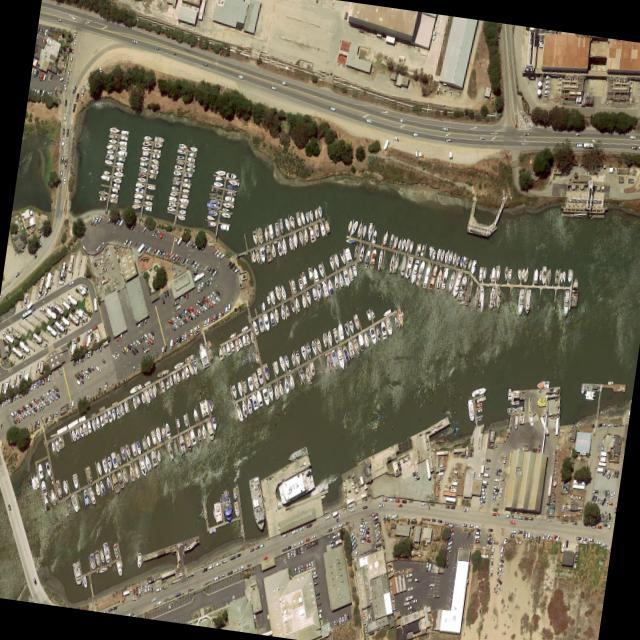ship: (278, 466, 316, 505), (248, 473, 267, 532), (196, 339, 210, 369), (287, 445, 308, 463), (221, 490, 233, 521), (464, 275, 475, 306), (570, 275, 581, 306), (452, 270, 464, 297), (428, 262, 439, 291), (457, 274, 468, 301), (422, 261, 432, 289), (72, 560, 83, 585), (410, 258, 420, 283), (115, 468, 126, 490), (199, 397, 210, 419), (213, 500, 223, 524), (336, 345, 346, 369), (517, 287, 525, 315), (563, 289, 571, 316), (471, 385, 487, 398), (178, 433, 187, 455), (111, 471, 120, 493), (206, 419, 215, 441), (55, 477, 64, 499), (330, 348, 339, 370), (184, 431, 193, 452), (88, 484, 97, 505), (417, 258, 426, 279), (405, 256, 414, 277), (441, 266, 449, 289), (448, 269, 456, 292), (467, 398, 475, 421), (103, 540, 111, 563), (388, 250, 396, 273), (138, 456, 147, 476), (70, 493, 79, 513), (364, 244, 372, 266), (30, 472, 39, 491), (267, 383, 276, 402), (396, 307, 405, 326), (352, 336, 361, 355), (349, 219, 359, 236), (235, 401, 243, 422), (356, 217, 364, 238), (376, 248, 384, 269), (525, 288, 532, 312), (400, 254, 408, 275), (380, 318, 388, 339), (344, 245, 353, 263), (357, 332, 366, 350), (347, 339, 356, 357), (474, 285, 481, 308), (489, 285, 496, 308), (156, 367, 170, 378), (495, 285, 502, 307), (144, 452, 152, 471), (110, 450, 118, 469), (262, 387, 270, 406), (256, 366, 264, 385), (343, 267, 351, 286), (337, 321, 345, 340), (353, 312, 361, 331), (369, 326, 377, 345), (342, 343, 350, 362), (263, 312, 271, 331), (262, 361, 270, 380), (278, 354, 286, 373), (305, 340, 313, 359), (436, 267, 443, 288), (129, 382, 141, 394), (585, 388, 597, 400), (155, 425, 163, 443), (150, 449, 158, 467), (133, 461, 141, 479), (128, 462, 136, 480), (189, 427, 197, 445), (252, 371, 260, 389), (82, 487, 90, 505), (370, 247, 378, 265), (385, 317, 393, 335), (325, 353, 333, 371), (288, 372, 296, 390), (166, 441, 174, 458), (164, 421, 172, 438), (192, 406, 200, 423), (256, 389, 264, 406), (321, 280, 329, 297), (274, 285, 282, 302), (269, 289, 277, 306), (310, 339, 318, 356), (252, 319, 260, 336), (300, 345, 308, 362), (206, 201, 221, 210), (480, 285, 485, 312), (298, 228, 305, 247), (246, 395, 253, 414), (241, 399, 248, 418), (86, 464, 93, 483), (367, 223, 374, 242), (393, 253, 400, 272), (283, 374, 290, 393), (327, 329, 334, 348), (470, 258, 478, 274), (143, 388, 151, 404), (150, 429, 158, 445), (247, 375, 255, 391), (312, 266, 320, 282), (304, 365, 312, 381), (281, 236, 288, 254), (265, 243, 272, 261), (257, 226, 264, 244), (233, 499, 240, 517), (359, 243, 366, 261), (67, 418, 78, 429), (184, 353, 196, 363), (319, 219, 326, 236), (292, 231, 299, 248), (276, 239, 283, 256), (122, 466, 129, 483), (96, 460, 103, 477), (251, 392, 258, 409), (237, 380, 244, 397), (72, 472, 79, 489), (40, 479, 47, 496), (45, 460, 52, 477), (37, 462, 44, 479), (116, 559, 123, 576), (316, 282, 323, 299), (273, 383, 280, 400), (375, 324, 382, 341), (269, 309, 276, 326), (301, 270, 308, 287), (294, 295, 301, 312), (258, 315, 265, 332), (541, 265, 547, 284), (91, 417, 98, 433), (125, 443, 132, 459), (120, 446, 127, 462), (99, 478, 106, 494), (94, 480, 101, 496), (62, 479, 69, 495), (388, 232, 395, 248), (327, 277, 334, 293), (318, 262, 325, 278), (333, 328, 340, 344), (290, 278, 297, 294), (280, 283, 287, 299), (56, 425, 68, 434), (537, 380, 549, 389), (324, 218, 331, 233), (82, 421, 89, 436), (119, 402, 126, 417), (160, 426, 167, 441), (131, 442, 138, 457), (106, 454, 113, 469), (311, 285, 318, 300), (349, 319, 356, 334), (363, 331, 370, 346), (309, 361, 316, 376), (290, 351, 297, 366), (187, 362, 195, 375), (296, 210, 302, 227), (260, 245, 266, 262), (274, 220, 280, 237), (279, 217, 285, 234), (90, 552, 96, 569), (95, 549, 101, 566), (322, 331, 328, 348), (173, 360, 184, 369), (435, 247, 442, 261), (86, 419, 93, 433), (155, 448, 162, 462), (316, 338, 323, 352), (295, 351, 302, 365), (224, 188, 236, 196), (309, 226, 315, 242), (303, 226, 309, 242), (284, 216, 290, 232), (271, 241, 277, 257), (268, 223, 274, 239), (136, 439, 142, 455), (102, 457, 108, 473), (201, 423, 207, 439), (113, 542, 119, 558), (383, 229, 389, 245), (338, 271, 344, 287), (334, 252, 340, 268), (329, 255, 335, 271), (308, 265, 314, 281), (300, 368, 306, 384), (306, 289, 312, 305), (274, 307, 280, 323), (274, 359, 280, 375), (222, 201, 235, 208), (57, 435, 64, 448), (448, 249, 454, 264), (290, 214, 296, 229), (255, 249, 261, 264), (263, 226, 269, 241), (75, 425, 81, 440), (152, 383, 158, 398), (476, 394, 486, 403), (183, 413, 189, 428), (232, 384, 238, 399), (242, 379, 248, 394), (218, 345, 224, 360), (567, 504, 582, 510), (50, 487, 56, 502), (98, 565, 108, 574), (99, 547, 105, 562), (372, 228, 378, 243), (348, 265, 354, 280), (352, 262, 358, 277), (333, 273, 339, 288), (344, 322, 350, 337), (382, 308, 392, 317), (301, 292, 307, 307), (280, 305, 286, 320), (227, 177, 238, 185), (215, 168, 226, 176), (117, 148, 128, 156), (496, 264, 501, 281), (547, 268, 552, 285), (226, 171, 238, 178), (309, 208, 315, 222), (451, 251, 457, 265), (314, 223, 320, 237), (71, 427, 77, 441), (79, 424, 85, 438), (99, 413, 105, 427), (107, 408, 113, 422), (123, 400, 129, 414), (132, 395, 138, 409), (254, 351, 260, 365), (146, 434, 152, 448), (106, 475, 112, 489), (196, 427, 202, 441), (249, 329, 255, 343), (234, 337, 240, 351), (212, 415, 218, 429), (55, 437, 61, 451), (44, 496, 50, 510), (362, 224, 368, 238), (353, 243, 359, 257), (340, 251, 346, 265), (278, 381, 284, 395), (290, 299, 296, 313), (284, 354, 290, 368), (253, 229, 258, 245), (504, 265, 509, 281), (534, 267, 539, 283), (209, 191, 222, 197), (440, 249, 446, 262), (455, 254, 461, 267), (459, 255, 465, 268), (103, 410, 109, 423), (111, 407, 117, 420), (115, 405, 121, 418), (160, 379, 166, 392), (184, 365, 190, 378), (142, 437, 148, 450), (245, 331, 251, 344), (225, 342, 231, 355), (393, 235, 399, 248), (420, 243, 426, 256), (416, 242, 422, 255), (404, 238, 410, 251), (284, 303, 290, 316), (166, 205, 177, 212), (187, 151, 198, 158), (211, 186, 222, 193), (154, 135, 165, 142), (179, 196, 190, 203), (208, 209, 219, 216), (224, 194, 235, 201), (98, 189, 109, 196), (109, 126, 120, 133), (113, 170, 124, 177), (545, 387, 556, 394), (318, 204, 323, 219), (301, 210, 306, 225), (288, 234, 293, 249), (478, 266, 483, 281), (491, 266, 496, 281), (137, 552, 142, 567), (524, 266, 529, 281), (554, 268, 559, 283), (443, 251, 449, 263), (220, 222, 229, 230), (240, 324, 249, 332), (228, 331, 237, 339), (529, 415, 535, 427), (580, 382, 586, 394), (393, 315, 399, 327), (178, 142, 188, 149), (186, 161, 196, 168), (226, 183, 236, 190), (132, 203, 142, 210), (147, 183, 157, 190), (149, 167, 159, 174), (138, 165, 148, 172), (305, 210, 310, 224), (221, 211, 231, 218), (96, 415, 101, 429), (105, 153, 115, 160), (193, 360, 198, 374), (514, 415, 519, 429), (401, 237, 406, 251), (409, 239, 414, 253), (213, 181, 224, 187), (141, 145, 152, 151), (210, 198, 221, 204), (105, 143, 116, 149), (241, 334, 247, 345), (366, 309, 372, 320), (251, 249, 256, 262), (141, 391, 146, 404), (148, 385, 153, 398), (117, 452, 122, 465), (232, 486, 237, 499), (347, 219, 352, 232), (298, 277, 303, 290), (78, 414, 86, 422), (170, 190, 179, 197), (151, 157, 160, 164), (207, 214, 216, 221), (109, 132, 118, 139), (113, 176, 122, 183), (168, 201, 178, 207), (168, 195, 178, 201), (174, 163, 184, 169), (185, 166, 195, 172), (134, 186, 144, 192), (135, 182, 145, 188), (143, 134, 153, 140), (142, 140, 152, 146), (139, 155, 149, 161), (139, 160, 149, 166), (314, 207, 319, 219), (428, 245, 433, 257), (467, 258, 472, 270), (100, 174, 110, 180), (104, 158, 114, 164), (181, 367, 186, 379), (136, 394, 142, 404), (169, 374, 174, 386), (172, 372, 177, 384), (176, 416, 181, 428), (370, 308, 376, 318), (209, 400, 214, 412), (507, 387, 512, 399), (83, 575, 88, 587), (397, 238, 402, 250), (177, 213, 185, 220), (144, 379, 152, 386), (568, 268, 572, 282), (432, 249, 437, 260), (238, 336, 243, 347), (230, 340, 235, 351), (222, 344, 227, 355), (50, 440, 55, 451), (521, 268, 526, 279), (261, 300, 266, 311), (171, 185, 180, 191), (187, 155, 196, 161), (184, 171, 193, 177), (181, 187, 190, 193), (150, 163, 159, 169), (154, 142, 163, 148), (138, 171, 147, 177), (137, 176, 146, 182), (208, 221, 217, 227), (144, 199, 153, 205), (109, 197, 118, 203), (405, 594, 414, 600), (108, 137, 117, 143), (121, 128, 130, 134), (115, 160, 124, 166), (515, 405, 524, 411), (346, 237, 355, 243), (483, 266, 487, 279), (209, 527, 216, 534), (178, 148, 186, 154), (190, 145, 198, 151), (145, 194, 153, 200), (149, 173, 157, 179), (153, 147, 161, 153), (178, 208, 186, 214), (580, 538, 588, 544), (119, 139, 127, 145), (182, 182, 191, 187), (173, 175, 182, 180), (173, 170, 182, 175), (180, 193, 189, 198), (134, 193, 143, 198), (152, 153, 161, 158), (118, 145, 127, 150), (507, 407, 516, 412), (176, 371, 180, 382), (509, 268, 513, 279), (517, 268, 521, 279), (539, 269, 543, 280), (403, 600, 410, 606), (476, 401, 483, 407), (406, 571, 413, 577), (172, 180, 180, 185), (176, 160, 184, 165), (177, 154, 185, 159), (215, 175, 223, 180), (183, 177, 191, 182), (134, 198, 142, 203), (179, 203, 187, 208), (222, 206, 230, 211), (144, 205, 152, 210), (99, 196, 107, 201), (103, 169, 111, 174), (107, 148, 115, 153), (117, 156, 125, 161), (115, 166, 123, 171), (110, 192, 118, 197), (510, 400, 520, 404), (560, 271, 563, 283), (563, 270, 566, 282), (267, 295, 271, 304), (142, 150, 149, 155), (113, 182, 120, 187), (111, 187, 118, 192), (607, 379, 614, 384), (407, 586, 414, 591), (120, 135, 128, 139), (166, 379, 169, 389), (477, 407, 483, 412), (478, 416, 483, 421)
small-vehicle: (118, 217, 125, 227), (111, 351, 118, 360), (123, 236, 130, 245), (77, 369, 84, 378), (35, 403, 42, 412), (174, 303, 181, 311), (167, 317, 174, 325), (197, 298, 204, 306), (143, 346, 151, 353), (74, 372, 81, 380), (53, 384, 60, 392), (29, 407, 36, 415), (40, 305, 47, 313), (496, 570, 503, 578), (212, 267, 218, 276), (38, 401, 44, 410), (96, 243, 102, 252), (152, 246, 158, 255), (94, 216, 99, 226), (436, 85, 441, 95), (182, 308, 189, 315), (47, 303, 54, 310), (497, 565, 504, 572), (203, 295, 209, 303), (215, 288, 221, 296), (210, 266, 216, 274), (127, 238, 133, 246), (173, 252, 179, 260), (148, 331, 154, 339), (191, 311, 197, 319), (95, 365, 101, 373), (10, 410, 16, 418), (158, 248, 164, 256), (92, 323, 98, 331), (493, 586, 499, 594), (602, 468, 608, 476), (604, 510, 609, 519), (90, 216, 95, 225), (171, 315, 177, 322), (186, 306, 192, 313), (189, 305, 195, 312), (211, 289, 217, 296), (234, 265, 240, 272), (169, 252, 175, 259), (216, 250, 222, 257), (143, 332, 149, 339), (215, 295, 221, 302), (121, 347, 127, 354), (123, 345, 129, 352), (132, 339, 138, 346), (76, 379, 82, 386), (89, 364, 95, 371), (45, 390, 51, 397), (15, 415, 21, 422), (17, 413, 23, 420), (26, 408, 32, 415), (40, 399, 46, 406), (44, 398, 50, 405), (407, 604, 414, 610), (352, 542, 358, 549), (496, 583, 502, 590), (497, 577, 503, 584), (605, 469, 611, 476), (394, 135, 400, 142), (556, 533, 561, 541), (601, 497, 606, 505), (546, 532, 551, 540), (175, 313, 180, 321), (219, 252, 224, 260), (170, 338, 174, 348), (80, 376, 85, 384), (40, 71, 44, 81), (44, 27, 49, 35), (50, 27, 55, 35), (21, 353, 26, 361), (499, 487, 503, 497), (350, 530, 355, 538), (500, 544, 505, 552), (466, 530, 471, 538), (523, 113, 528, 121), (72, 85, 77, 93), (72, 102, 76, 112), (75, 92, 79, 102), (570, 494, 576, 500), (200, 281, 204, 290), (197, 283, 201, 292), (195, 301, 201, 307), (209, 292, 215, 298), (195, 262, 201, 268), (182, 317, 188, 323), (188, 314, 194, 320), (148, 337, 154, 343), (206, 316, 210, 325), (199, 306, 205, 312), (202, 304, 208, 310), (208, 301, 214, 307), (211, 298, 217, 304), (145, 339, 151, 345), (126, 343, 132, 349), (129, 342, 135, 348), (13, 409, 19, 415), (16, 408, 22, 414), (33, 397, 39, 403), (36, 395, 42, 401), (537, 443, 541, 452), (12, 418, 18, 424), (48, 411, 52, 420), (71, 399, 75, 408), (86, 328, 92, 334), (411, 597, 417, 603), (428, 562, 432, 571), (498, 561, 504, 567), (491, 546, 495, 555), (82, 82, 86, 91), (151, 596, 157, 602), (282, 532, 288, 538), (292, 528, 298, 534), (306, 522, 312, 528), (598, 497, 603, 504), (542, 532, 547, 539), (553, 533, 558, 540), (207, 294, 212, 301), (171, 324, 176, 331), (174, 322, 179, 329), (204, 263, 209, 270), (159, 231, 164, 238), (152, 229, 157, 236), (147, 245, 152, 252), (186, 239, 191, 246), (176, 254, 181, 261), (181, 256, 186, 263), (184, 257, 189, 264), (227, 259, 232, 266), (230, 261, 235, 268), (194, 309, 199, 316), (197, 308, 202, 315), (101, 356, 106, 363), (115, 350, 120, 357), (136, 338, 141, 345), (141, 334, 146, 341), (142, 225, 147, 232), (81, 369, 86, 376), (22, 404, 27, 411), (28, 400, 33, 407), (32, 405, 37, 412), (57, 330, 62, 337), (98, 215, 103, 222), (161, 250, 166, 257), (156, 248, 161, 255), (483, 472, 490, 477), (482, 479, 489, 484), (495, 471, 502, 476), (352, 538, 357, 545), (375, 530, 380, 537), (503, 536, 508, 543), (492, 539, 499, 544), (351, 534, 356, 541), (528, 120, 533, 127), (87, 81, 92, 88), (561, 504, 565, 512), (610, 490, 614, 498), (607, 489, 611, 497), (601, 511, 605, 519), (550, 532, 554, 540), (162, 296, 166, 304), (161, 345, 165, 353), (141, 317, 145, 325), (30, 383, 34, 391), (33, 381, 37, 389), (30, 424, 34, 432), (33, 68, 37, 76), (33, 88, 37, 96), (39, 26, 43, 34), (59, 366, 63, 374), (96, 344, 100, 352), (461, 467, 465, 475), (33, 577, 37, 585), (63, 83, 67, 91), (99, 65, 103, 73), (597, 524, 603, 529), (582, 535, 587, 541), (602, 541, 607, 547), (207, 266, 212, 272), (177, 312, 182, 318), (181, 311, 186, 317), (200, 297, 205, 303), (177, 321, 182, 327), (155, 230, 160, 236), (164, 252, 169, 258), (167, 252, 172, 258), (190, 259, 195, 265), (211, 247, 216, 253), (232, 264, 237, 270), (179, 319, 184, 325), (185, 315, 190, 321), (150, 329, 155, 335), (206, 303, 211, 309), (131, 349, 136, 355), (134, 346, 139, 352), (140, 343, 145, 349), (87, 366, 92, 372), (19, 406, 24, 412), (25, 403, 30, 409), (39, 394, 44, 400), (42, 392, 47, 398), (49, 395, 54, 401), (48, 388, 53, 394), (53, 393, 58, 399), (51, 386, 56, 392), (20, 412, 25, 418), (24, 410, 29, 416), (47, 397, 52, 403), (33, 253, 38, 259), (15, 271, 20, 277), (6, 327, 11, 333), (493, 487, 499, 492), (493, 490, 499, 495), (426, 561, 429, 571), (351, 506, 356, 512), (365, 532, 370, 538), (375, 542, 381, 547), (376, 535, 381, 541), (374, 522, 379, 528), (373, 514, 378, 520), (372, 511, 378, 516), (385, 513, 391, 518), (382, 496, 388, 501), (490, 567, 493, 577), (510, 519, 516, 524), (491, 555, 494, 565), (448, 522, 454, 527), (448, 539, 453, 545), (132, 38, 138, 43), (202, 61, 208, 66), (282, 81, 288, 86), (366, 118, 372, 123), (156, 586, 161, 592), (157, 599, 162, 605), (339, 522, 344, 528), (175, 591, 181, 596), (222, 558, 228, 563), (227, 570, 233, 575), (239, 564, 244, 570), (249, 547, 255, 552), (299, 525, 304, 531), (608, 512, 612, 519), (591, 493, 595, 500), (596, 496, 600, 503), (616, 470, 620, 477), (613, 470, 617, 477), (144, 244, 148, 251), (163, 290, 167, 297), (175, 235, 179, 242), (67, 68, 71, 75), (56, 391, 60, 398), (116, 334, 120, 341), (48, 26, 52, 33), (50, 73, 54, 80), (2, 330, 6, 337), (354, 549, 358, 556), (607, 472, 611, 479), (631, 145, 638, 149), (129, 588, 133, 595), (150, 585, 154, 592), (300, 564, 304, 571), (308, 561, 312, 568), (295, 547, 299, 554), (213, 312, 216, 321), (104, 380, 107, 389), (85, 312, 88, 321), (73, 356, 76, 365), (503, 454, 506, 463), (415, 148, 418, 157), (173, 301, 178, 306), (214, 249, 219, 254), (30, 399, 35, 404), (85, 374, 90, 379), (69, 280, 74, 285), (481, 487, 486, 492), (480, 498, 485, 503), (348, 503, 353, 508), (360, 527, 365, 532), (360, 523, 365, 528), (361, 535, 366, 540), (361, 539, 366, 544), (366, 537, 371, 542), (449, 528, 454, 533), (449, 531, 454, 536), (447, 545, 452, 550), (59, 76, 64, 81), (129, 611, 134, 616), (154, 45, 159, 50), (238, 74, 243, 79), (271, 85, 276, 90), (298, 539, 303, 544), (305, 536, 310, 541), (314, 580, 319, 585), (316, 594, 321, 599), (317, 601, 322, 606), (326, 514, 331, 519), (202, 567, 207, 572), (209, 564, 214, 569), (215, 575, 220, 580), (233, 567, 238, 572), (260, 542, 265, 547), (282, 546, 287, 551), (608, 521, 611, 529), (595, 540, 601, 544), (614, 505, 617, 513), (547, 517, 553, 521), (593, 495, 597, 501), (592, 489, 598, 493), (523, 529, 526, 537), (535, 534, 538, 542), (166, 288, 169, 296), (179, 334, 182, 342), (219, 309, 222, 317), (225, 305, 228, 313), (228, 302, 231, 310), (57, 17, 63, 21), (85, 368, 89, 374), (186, 290, 189, 298), (34, 420, 37, 428), (8, 395, 11, 403), (11, 394, 14, 402), (16, 390, 19, 398), (27, 425, 30, 433), (55, 409, 58, 417), (76, 355, 79, 363), (91, 347, 94, 355), (19, 369, 22, 377), (484, 465, 490, 469), (480, 494, 486, 498), (496, 468, 502, 472), (494, 478, 500, 482), (493, 484, 499, 488), (393, 513, 399, 517), (443, 521, 449, 525), (512, 514, 518, 518), (593, 428, 596, 436), (475, 531, 481, 535), (486, 540, 492, 544), (523, 131, 529, 135), (630, 135, 636, 139), (135, 587, 138, 595), (138, 587, 141, 595), (64, 112, 67, 120), (62, 137, 65, 145), (298, 564, 301, 572), (306, 561, 309, 569), (311, 560, 314, 568), (334, 619, 337, 627), (344, 612, 347, 620), (301, 545, 304, 553), (230, 555, 236, 559), (293, 548, 296, 556), (287, 544, 291, 550), (287, 551, 290, 559), (290, 549, 293, 557), (606, 498, 609, 505), (538, 535, 541, 542), (613, 490, 616, 497), (207, 278, 210, 285), (155, 350, 158, 357), (173, 338, 176, 345), (176, 336, 179, 343), (190, 328, 193, 335), (204, 319, 207, 326), (216, 312, 219, 319), (72, 46, 75, 53), (98, 386, 101, 393), (48, 373, 51, 380), (45, 374, 48, 381), (42, 376, 45, 383), (120, 330, 123, 337), (138, 320, 141, 327), (144, 316, 147, 323), (36, 379, 39, 386), (40, 377, 43, 384), (37, 419, 40, 426), (65, 327, 68, 334), (38, 71, 41, 78), (36, 69, 39, 76), (45, 416, 48, 423), (51, 412, 54, 419), (2, 400, 5, 407), (5, 397, 8, 404), (14, 392, 17, 399), (19, 390, 22, 397), (79, 354, 82, 361), (84, 352, 87, 359), (99, 344, 102, 351), (70, 54, 73, 61), (67, 75, 70, 82), (449, 89, 452, 96), (576, 143, 583, 146), (8, 503, 11, 510), (133, 587, 136, 594), (144, 585, 147, 592), (168, 602, 171, 609), (294, 566, 297, 573), (303, 563, 306, 570), (336, 618, 339, 625), (339, 616, 342, 623), (347, 612, 350, 619), (298, 547, 301, 554), (232, 593, 235, 600), (572, 520, 577, 524), (603, 522, 608, 526), (589, 537, 594, 541), (592, 524, 597, 528), (517, 529, 522, 533), (193, 261, 197, 266), (139, 337, 143, 342), (44, 342, 48, 347), (37, 88, 39, 98), (422, 501, 427, 505), (486, 458, 491, 462), (482, 484, 487, 488), (492, 495, 497, 499), (412, 515, 417, 519), (430, 501, 435, 505), (398, 503, 403, 507), (363, 520, 368, 524), (365, 525, 369, 530), (365, 530, 370, 534), (359, 531, 364, 535), (379, 503, 384, 507), (389, 497, 394, 501), (500, 557, 504, 562), (500, 553, 504, 558), (511, 529, 516, 533), (506, 513, 511, 517), (518, 515, 523, 519), (598, 422, 603, 426), (608, 422, 613, 426), (449, 536, 453, 541), (445, 504, 450, 508), (463, 507, 468, 511), (447, 549, 451, 554), (429, 586, 434, 590), (486, 543, 491, 547), (469, 523, 474, 527), (474, 524, 479, 528), (475, 534, 480, 538), (475, 539, 480, 543), (488, 527, 493, 531), (487, 533, 492, 537), (332, 534, 337, 538), (132, 596, 137, 600), (413, 132, 418, 136), (333, 525, 338, 529), (400, 118, 405, 122), (330, 106, 335, 110), (291, 543, 296, 547), (312, 534, 317, 538), (315, 591, 320, 595), (328, 527, 332, 532), (329, 539, 334, 543), (216, 561, 221, 565), (236, 553, 241, 557), (247, 562, 251, 567), (255, 545, 260, 549), (530, 534, 533, 540), (181, 334, 184, 340), (210, 316, 213, 322), (72, 338, 75, 344), (611, 471, 614, 477), (414, 578, 420, 581), (407, 518, 410, 524), (450, 505, 456, 508), (491, 512, 497, 515), (443, 127, 449, 130), (446, 138, 452, 141), (81, 89, 84, 95), (566, 539, 568, 547), (609, 501, 613, 505), (204, 280, 206, 288), (185, 331, 187, 339), (510, 533, 514, 537), (524, 516, 528, 520), (108, 607, 112, 611), (113, 605, 117, 609), (141, 585, 143, 593), (148, 584, 150, 592), (64, 176, 66, 184), (67, 128, 69, 136), (221, 573, 225, 577), (264, 555, 268, 559), (577, 536, 582, 539), (481, 491, 486, 494), (421, 517, 426, 520), (401, 499, 406, 502), (363, 505, 368, 508), (395, 498, 400, 501), (426, 517, 431, 520), (431, 518, 436, 521), (437, 519, 442, 522), (529, 517, 534, 520), (614, 423, 619, 426), (430, 583, 435, 586), (487, 537, 492, 540), (480, 136, 485, 139), (576, 132, 581, 135), (605, 489, 607, 496), (526, 532, 528, 539), (210, 277, 212, 284), (133, 364, 135, 371), (165, 344, 167, 351), (188, 330, 190, 337), (74, 30, 76, 37), (87, 393, 89, 400), (88, 350, 90, 357), (515, 120, 517, 127), (62, 153, 64, 160), (65, 161, 67, 168), (70, 122, 72, 129), (342, 615, 344, 622), (222, 309, 224, 315), (74, 39, 76, 45), (181, 293, 183, 299), (603, 422, 607, 425), (463, 523, 467, 526), (477, 528, 481, 531), (65, 99, 67, 105), (63, 127, 65, 133), (336, 515, 338, 521), (330, 543, 334, 546), (61, 168, 62, 175)
storage-tank: (536, 87, 542, 95), (537, 79, 542, 87)
